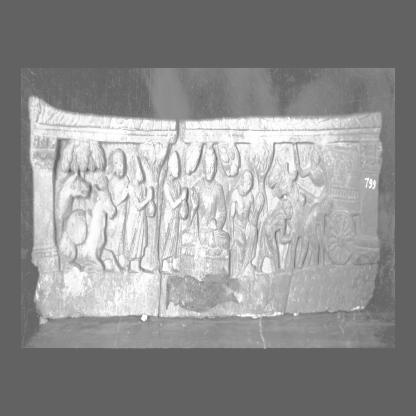buddha-sitting: (180, 144, 230, 279)
